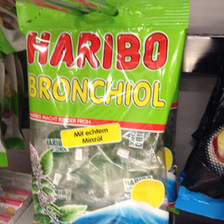candy: (18, 1, 187, 218)
